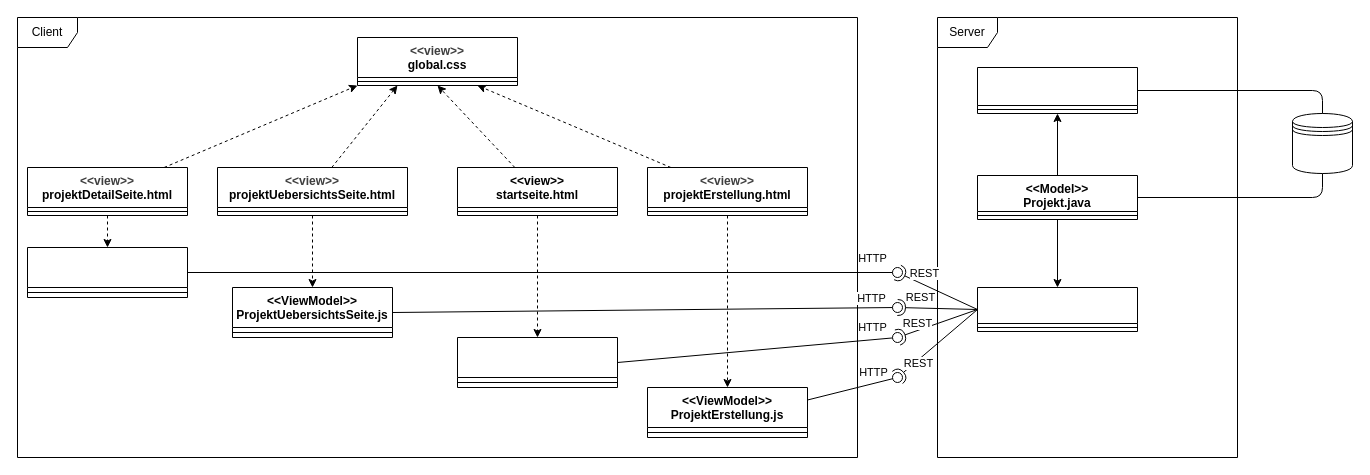
The diagram is 1370 pixels wide and 475 high, and some of its shapes have lost their labels. Here are the shapes that lost their labels. From the top down, the centre of each, then its label:
At (1057,90): "<<Model>> ZeitManagement.java".
At (1322,143): "DB".
At (107,272): "<<ViewModel>> ProjektDetailSeite.js".
At (1057,309): "<<Model>> API .java".
At (537,362): "<<ViewModel>> Startseite.js".
